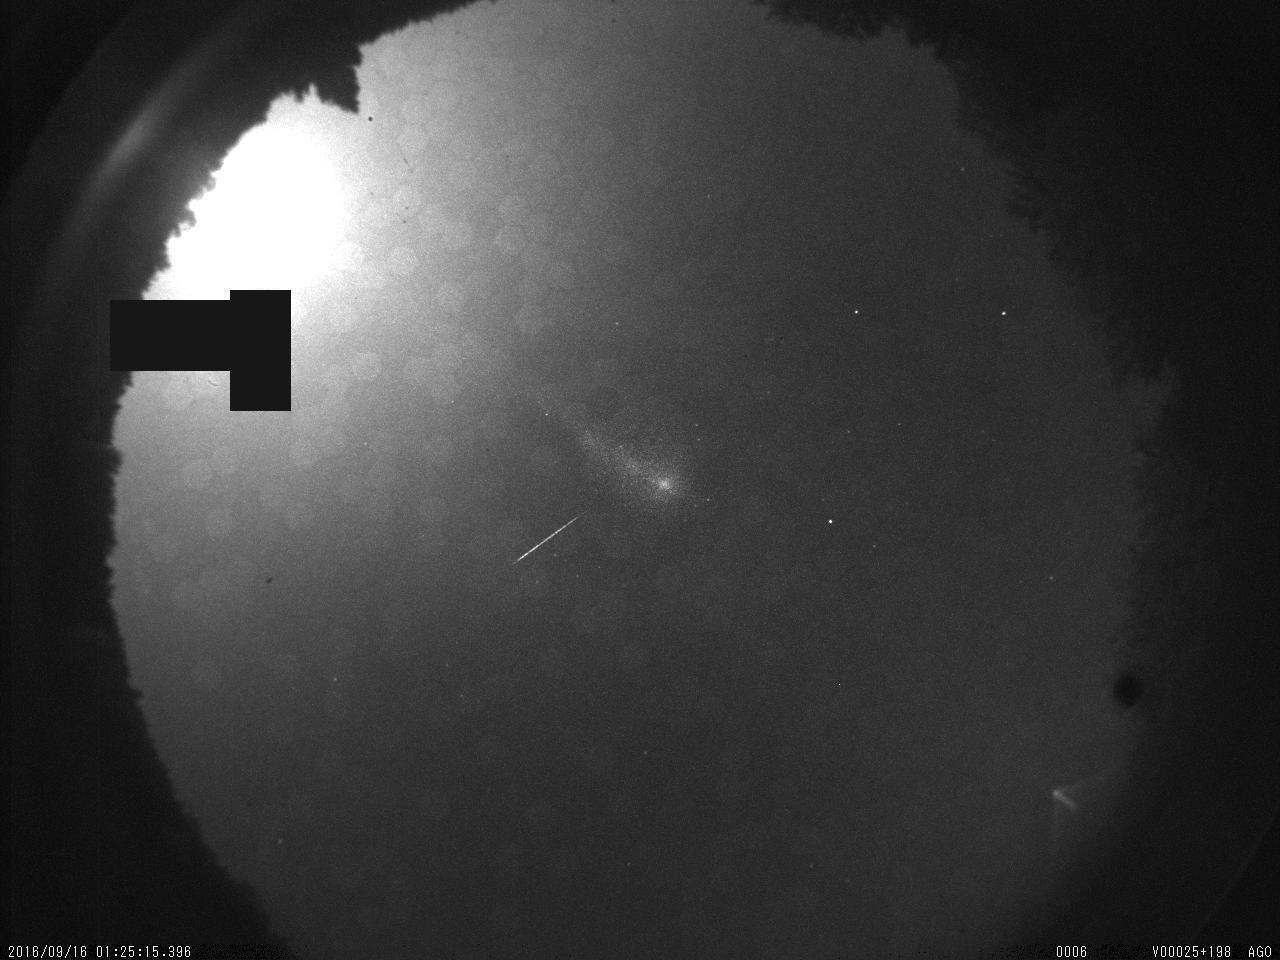meteor: (502, 497, 593, 581)
